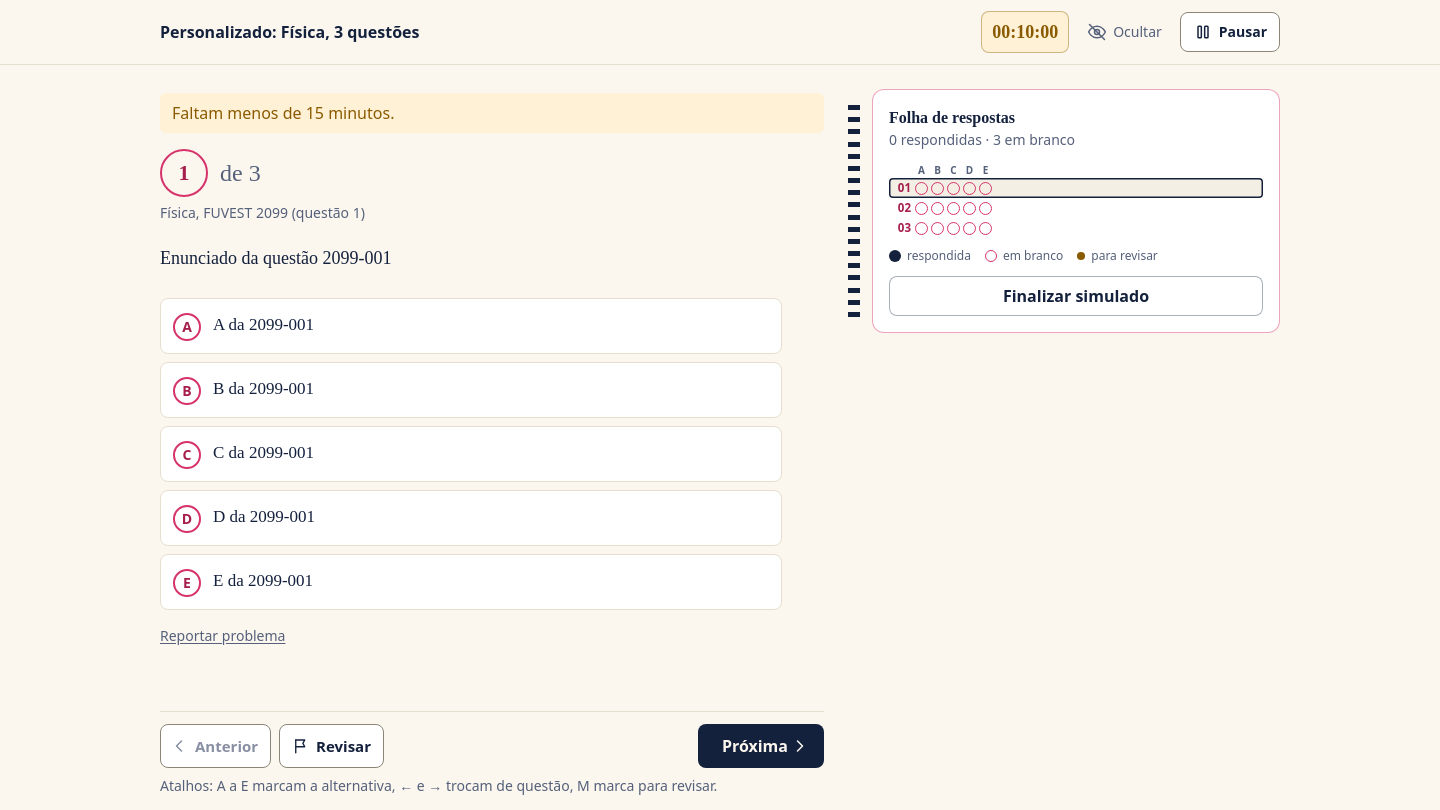
Resolução (RF-013 a RF-016) › navega pela folha, pelos botões e por atalhos de teclado
The width and height of the screenshot is (1440, 810).
Expected: the text "Enunciado da questão 2099-001" is shown, [160,248,392,268]
Click the button with aria-label "Próxima questão": (761, 746) [698,724,824,768]
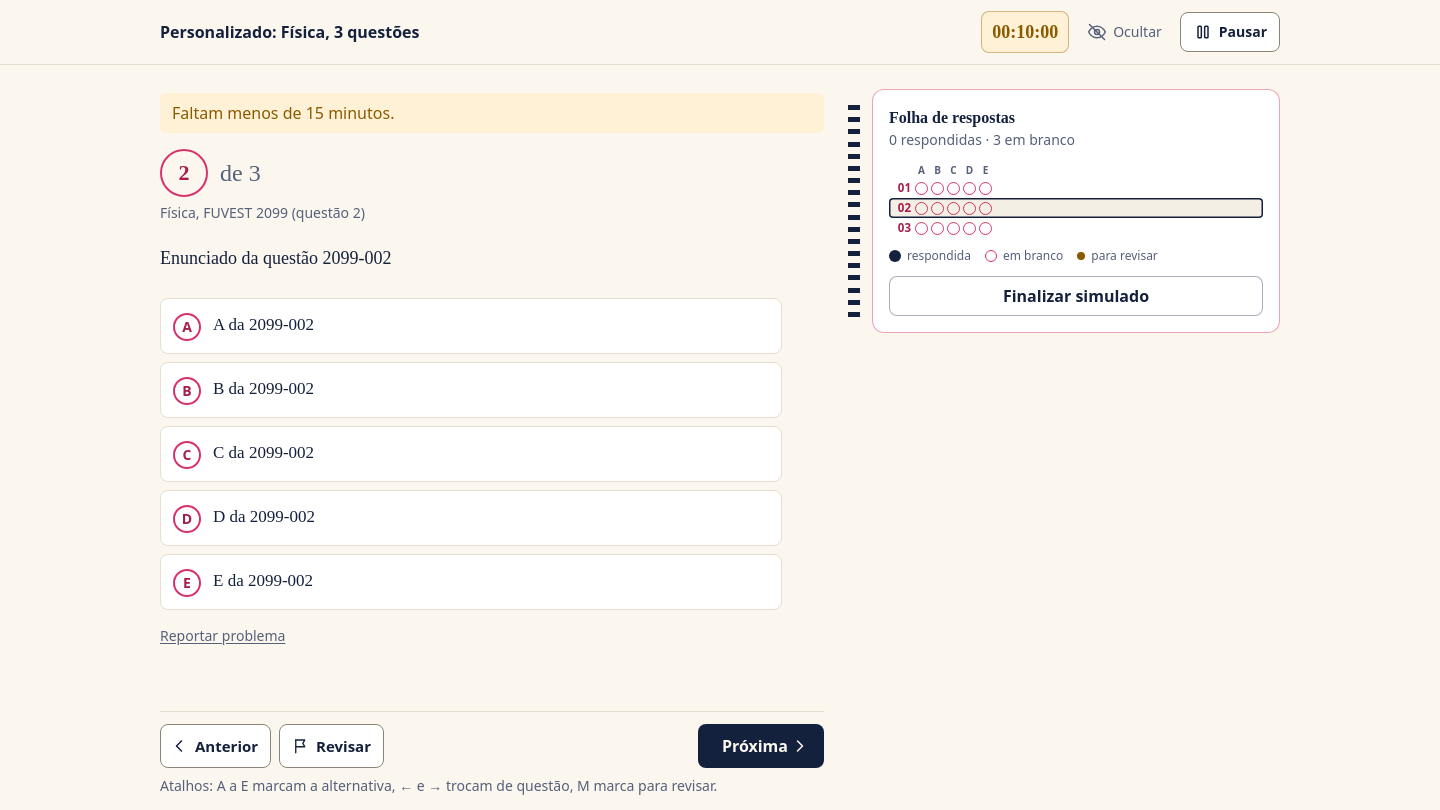
Result: the text "Enunciado da questão 2099-002" is shown at [160,248,392,268]
Press Arrowright
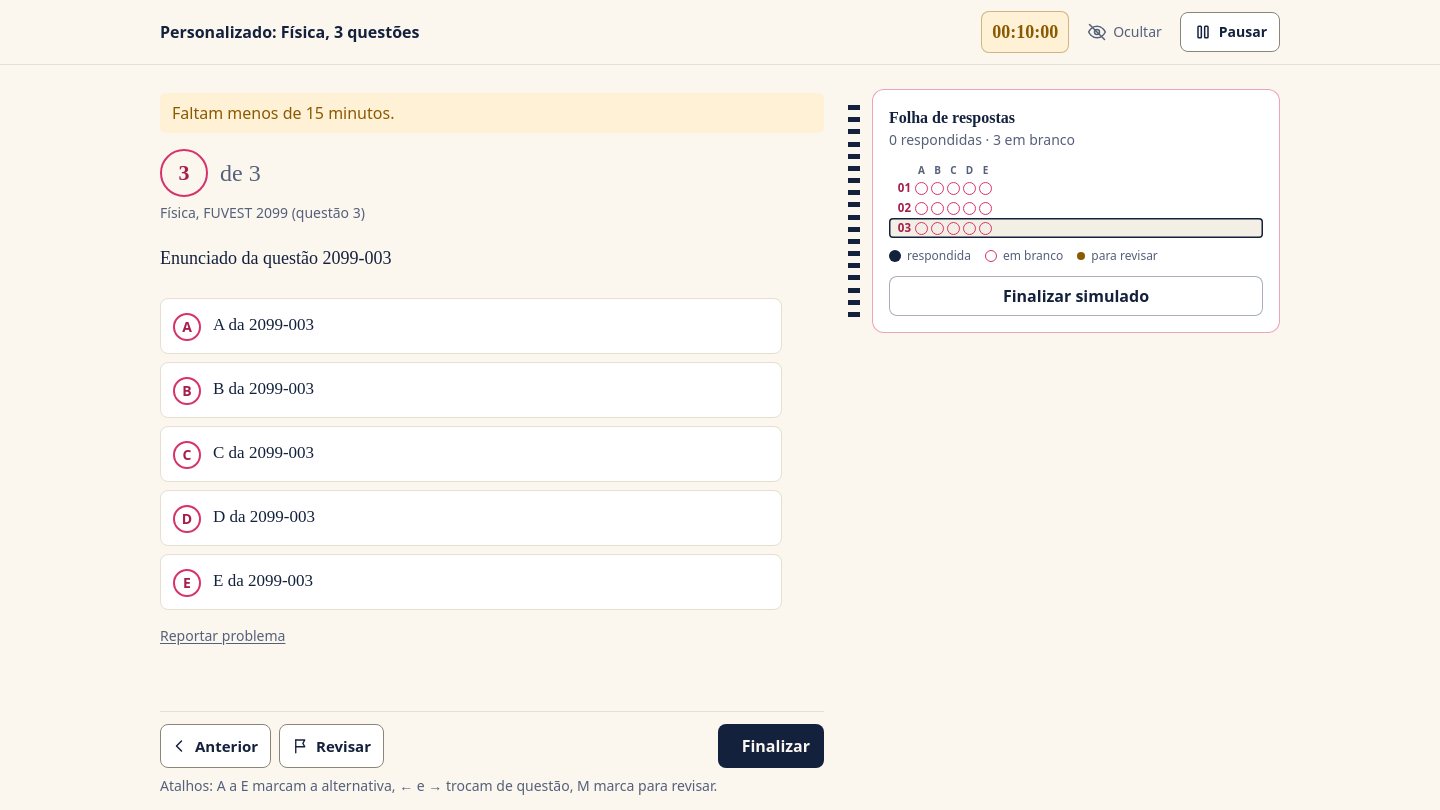
Result: the button with aria-label "Questão anterior" is enabled at [160,724,271,768]
Result: the text "Enunciado da questão 2099-003" is shown at [160,248,392,268]
Type keys "b"
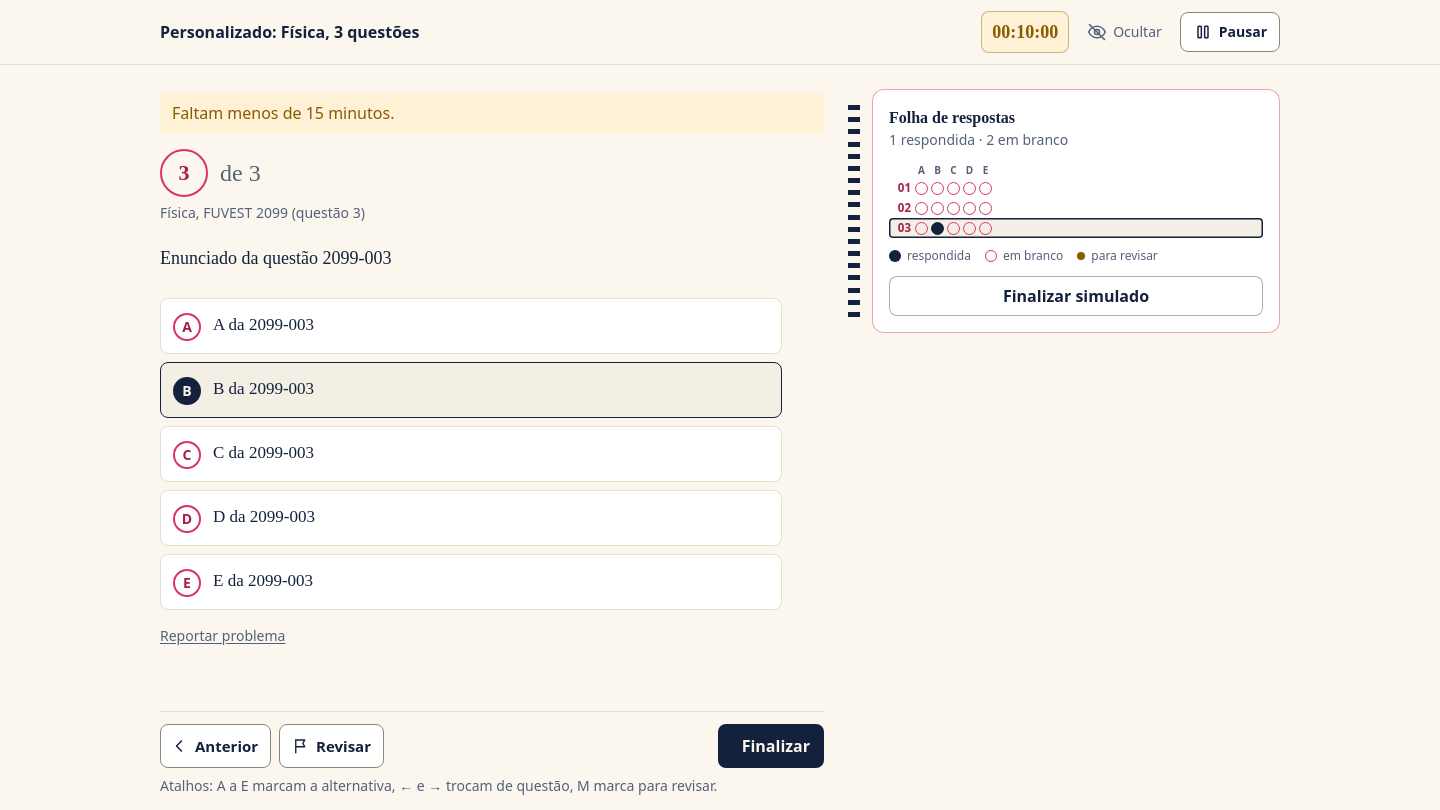
Type keys "m"
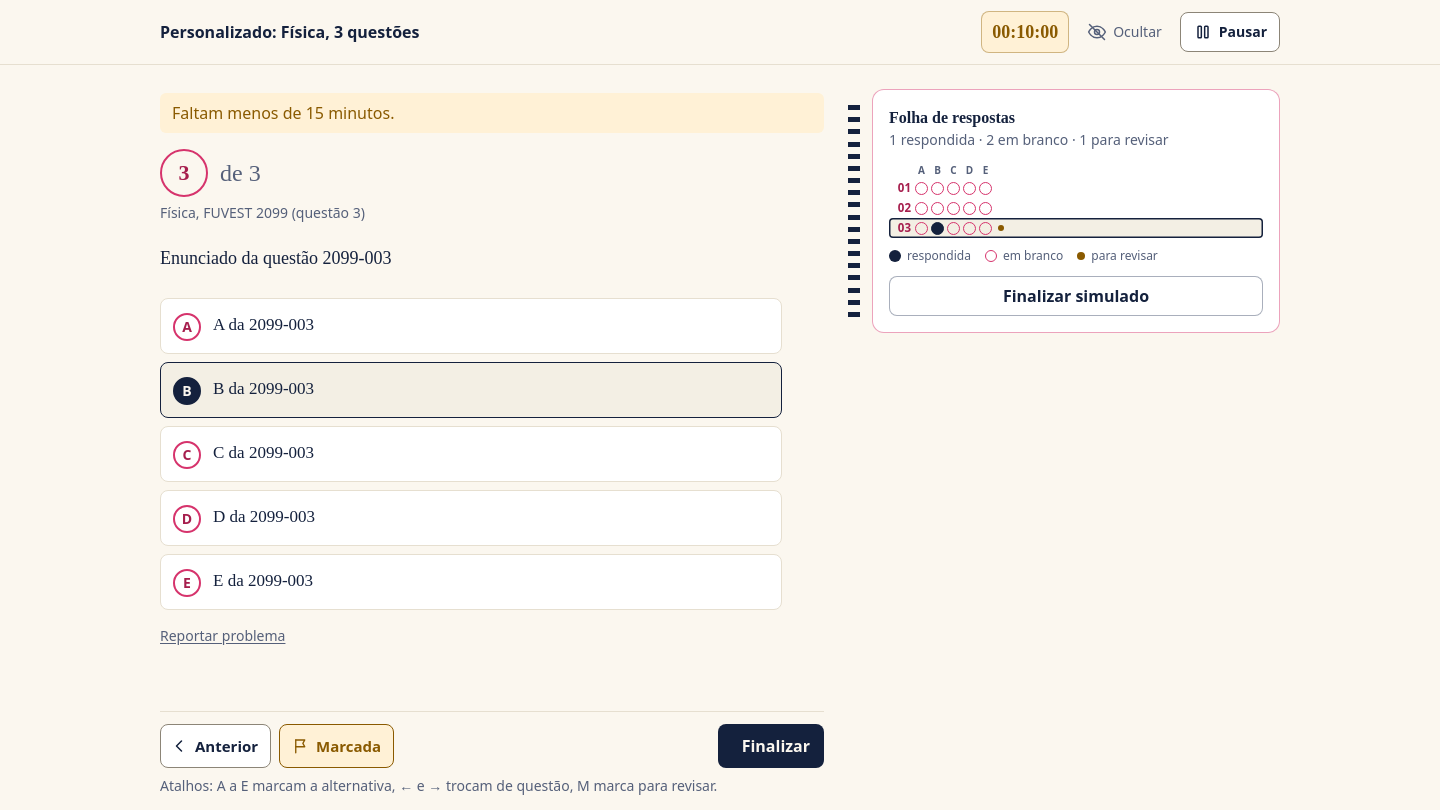
Click the button named "Questão 1:": (904, 188) [889,178,1263,198]
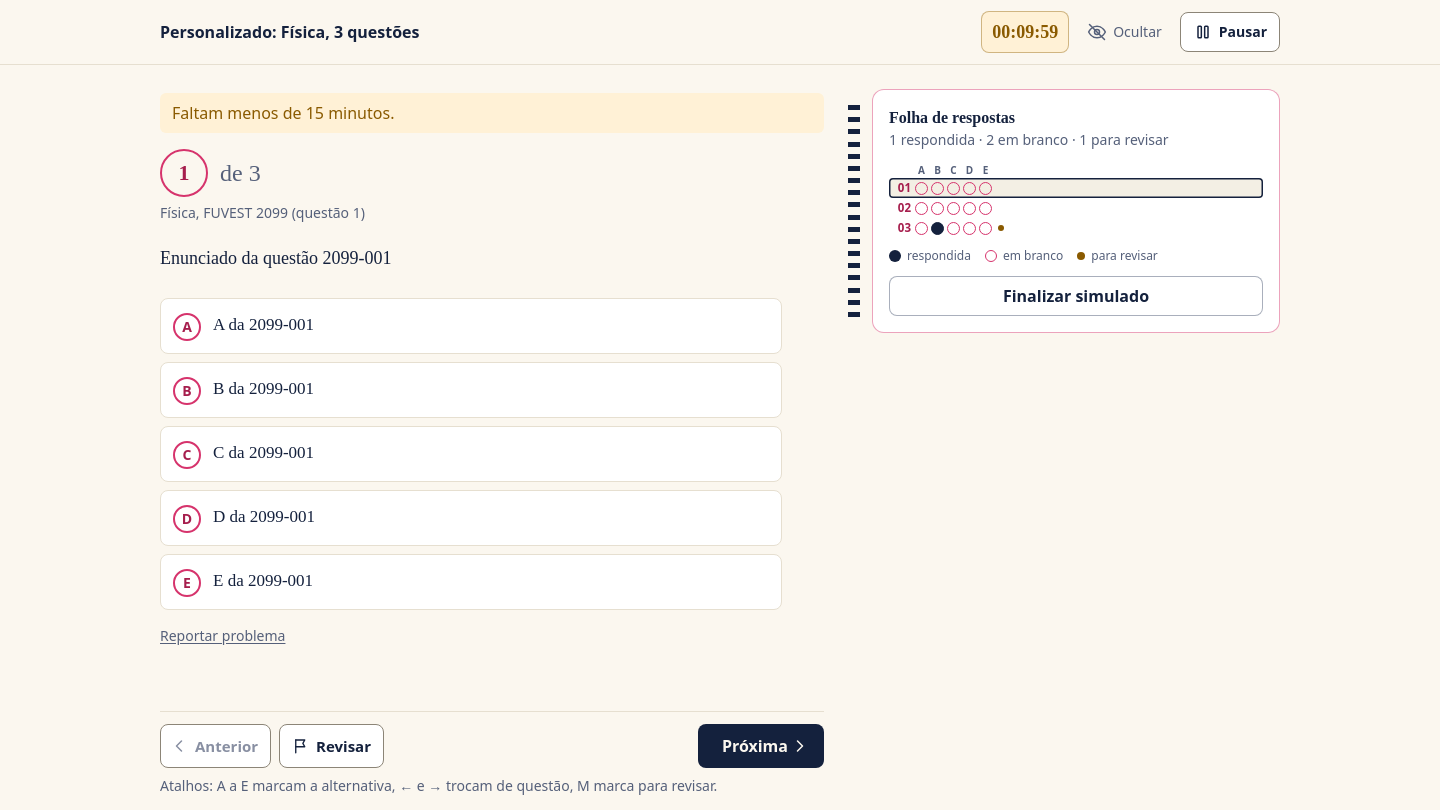
Result: the text "Enunciado da questão 2099-001" is shown at [160,248,392,268]
